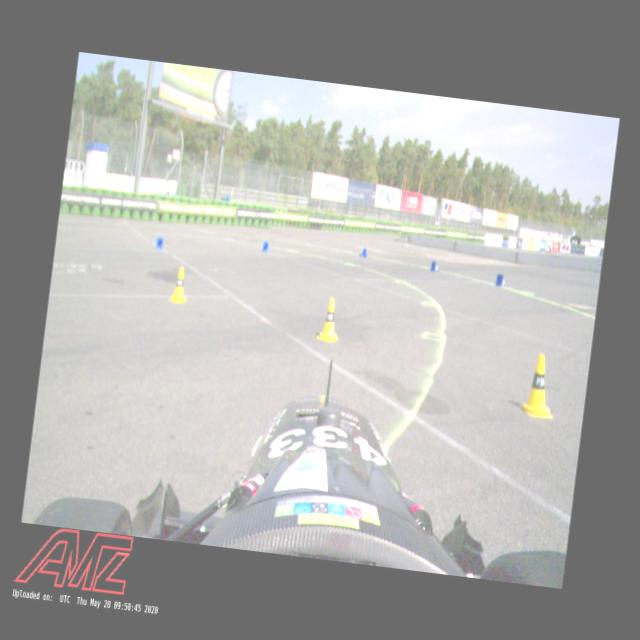blue_cone: (494, 272, 506, 287), (154, 236, 164, 250), (429, 260, 440, 272), (358, 246, 367, 258), (261, 240, 269, 253)
yellow_cone: (519, 350, 560, 421), (316, 296, 342, 342), (168, 265, 191, 303)
